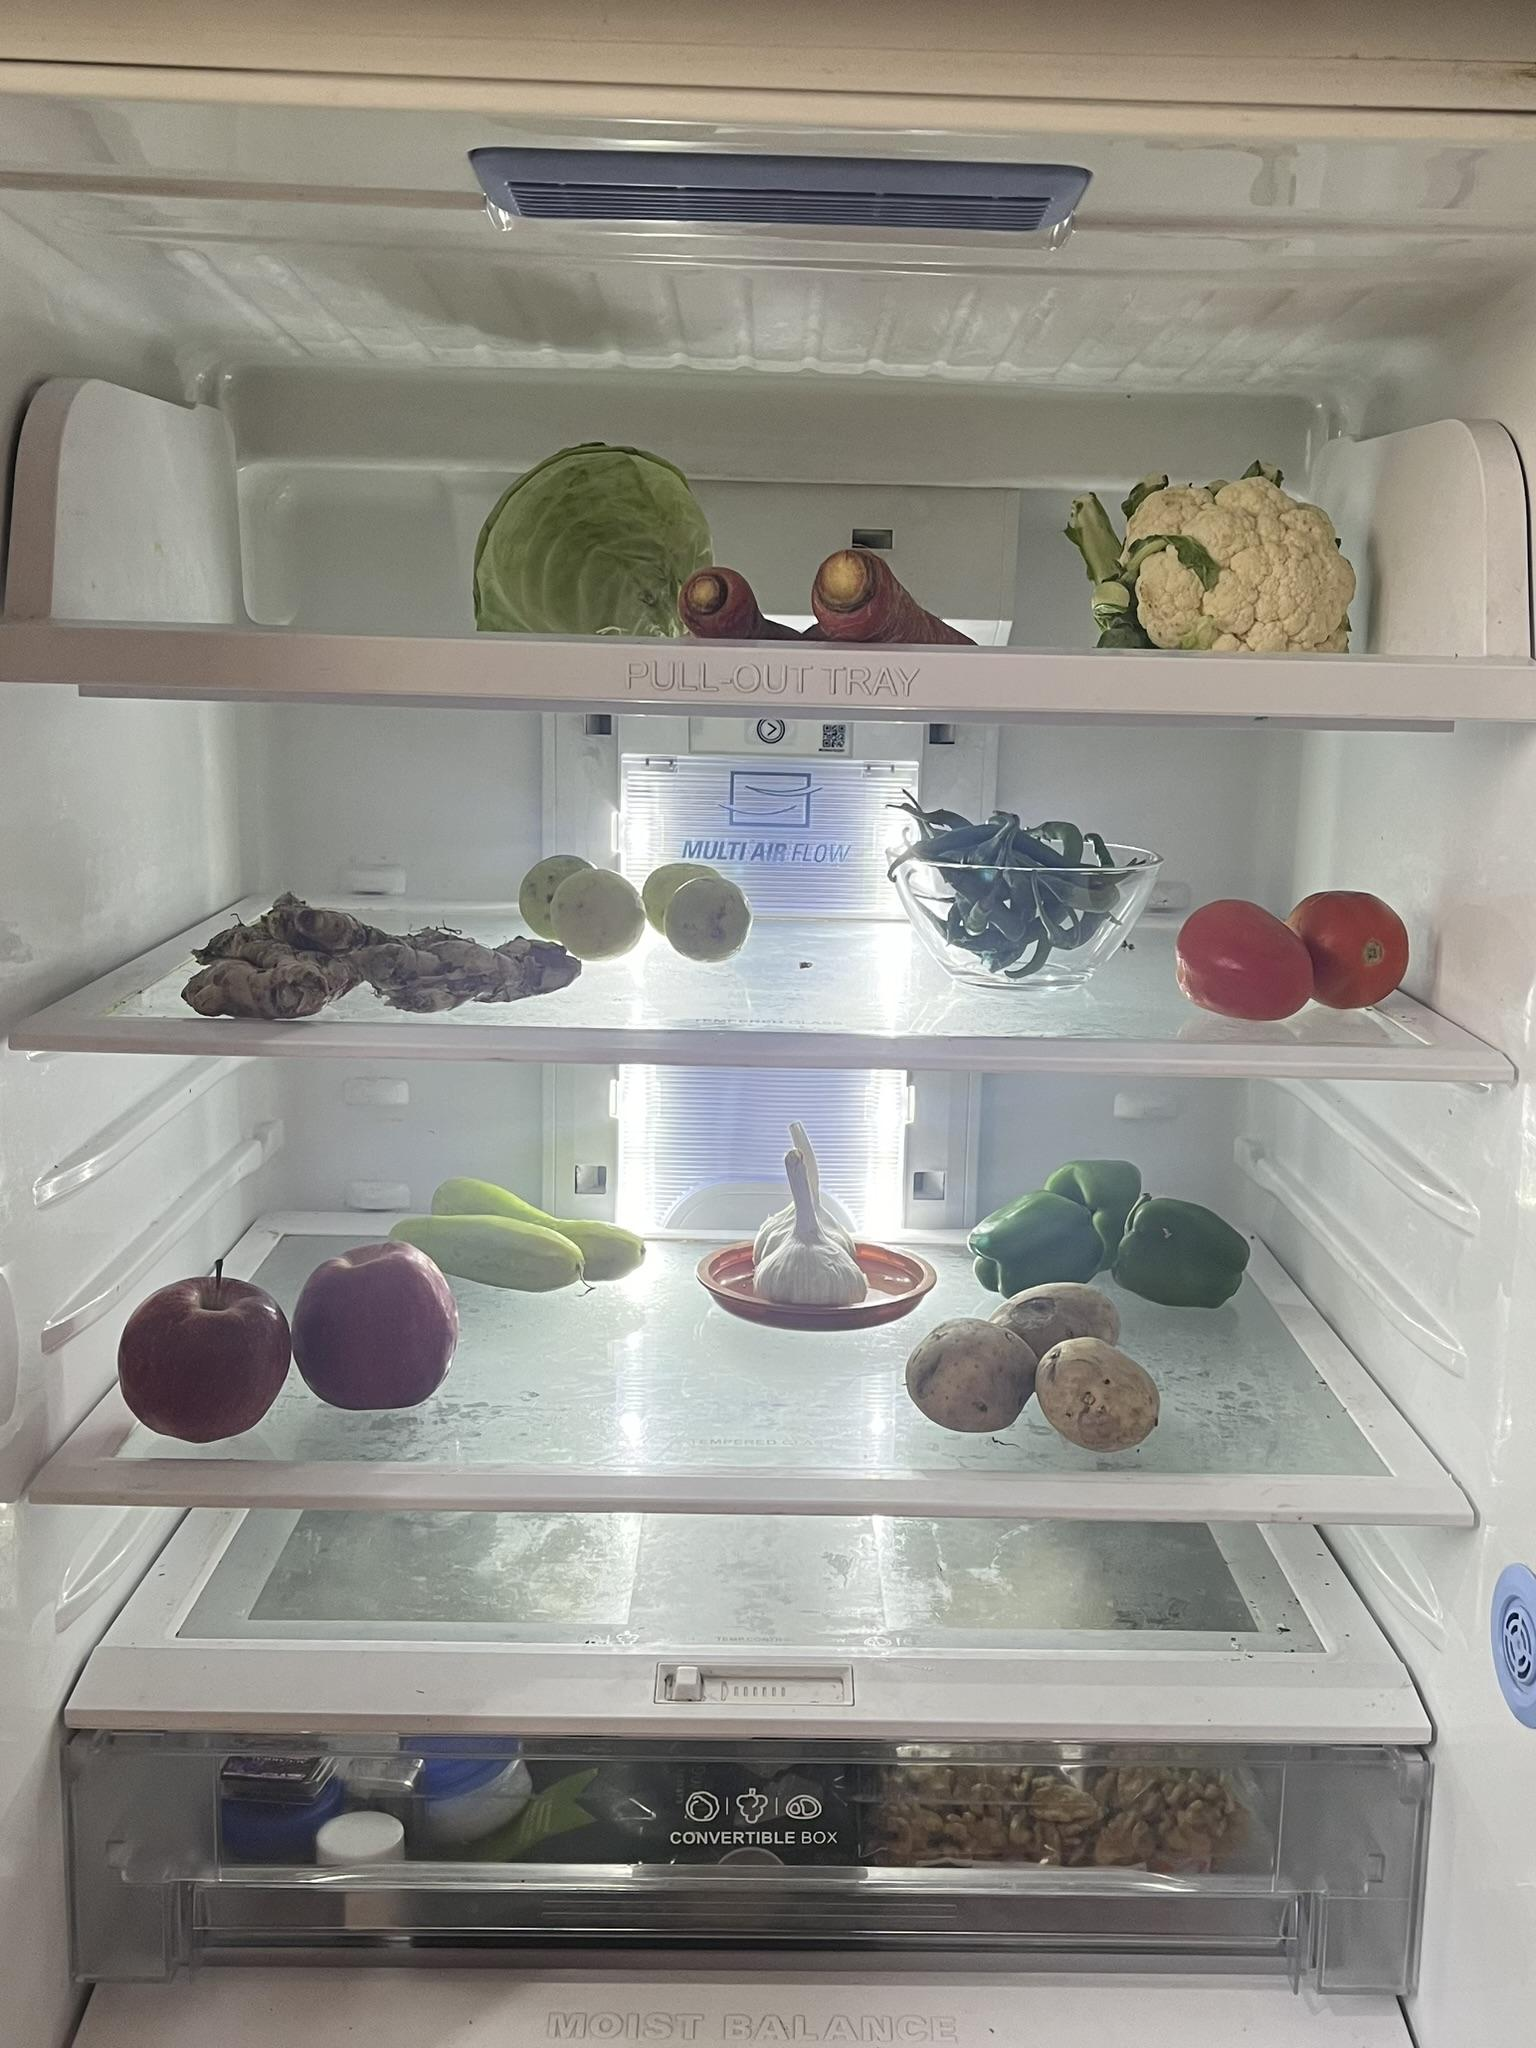apple: (121, 1242, 455, 1447)
cabbage: (461, 432, 715, 639)
capsicum: (966, 1147, 1247, 1306)
carrots: (692, 552, 971, 642)
cauliflower: (1071, 456, 1357, 651)
chillies: (902, 792, 1131, 976)
cucumber: (382, 1172, 658, 1285)
garlic: (757, 1122, 862, 1309)
ginger: (187, 892, 584, 1019)
lemon: (526, 851, 747, 953)
potato: (907, 1272, 1163, 1440)
tomato: (1181, 882, 1410, 1022)
